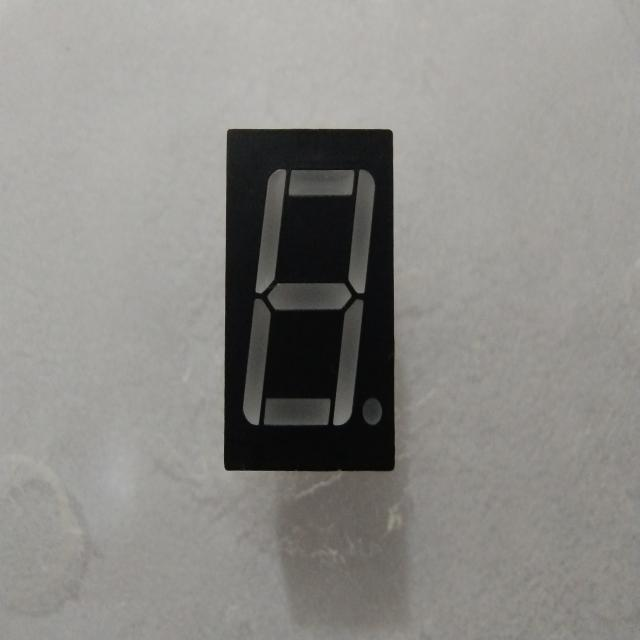7_segments: (215, 111, 401, 481)
